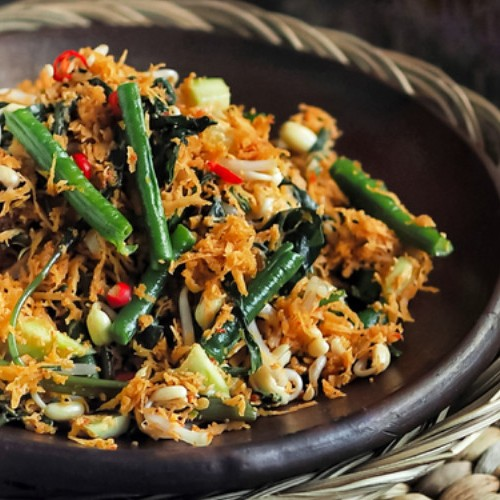jukut urap: (10, 58, 406, 410)
